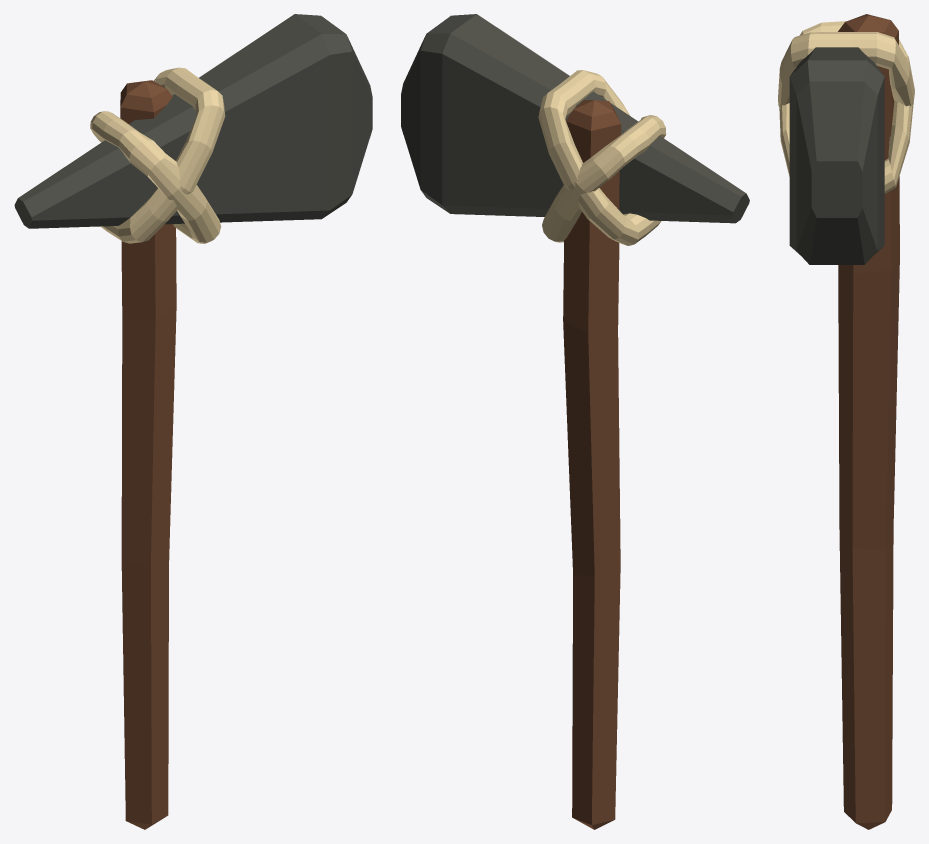
Rendered from StoneAxe.fbx.
3 views of the same model, side by side, from view 1: azimuth 30°, elevation 25°; view 2: azimuth 150°, elevation 25°; view 3: azimuth 270°, elevation 25° (orthographic). The views are drawn at different scales.
Visible parts, largest first — view 1: Stone Axe; view 2: Stone Axe; view 3: Stone Axe.
Boxes of the visible parts, x1,y1,x2,y2 form: Stone Axe: [14, 14, 372, 829]; Stone Axe: [401, 14, 749, 829]; Stone Axe: [778, 14, 914, 829].
Size of the model in its own units: 196 by 430 by 62.94.
